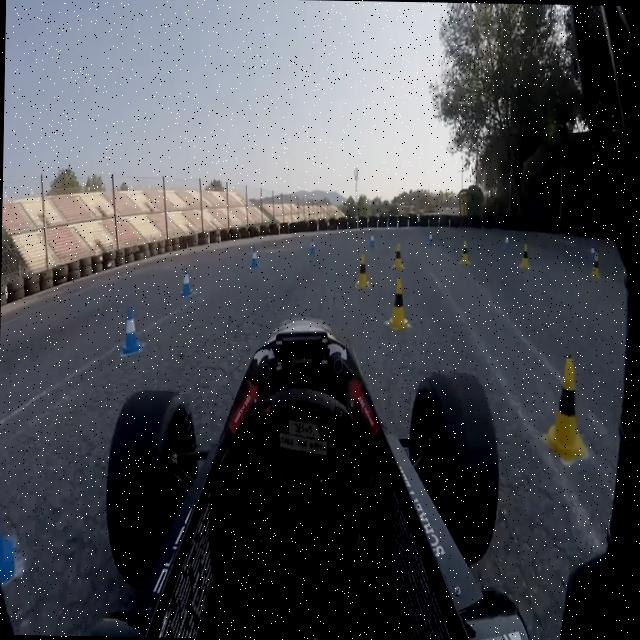blue_cone: (0, 480, 23, 584), (120, 306, 142, 358), (179, 260, 195, 300), (250, 242, 260, 271), (308, 233, 318, 259), (367, 230, 376, 252), (501, 232, 509, 256), (588, 244, 596, 268), (425, 230, 432, 252)
yellow_cone: (540, 358, 590, 470), (386, 278, 412, 334), (354, 254, 371, 290), (390, 239, 406, 274), (518, 240, 532, 270), (458, 238, 470, 270), (590, 255, 600, 283)
